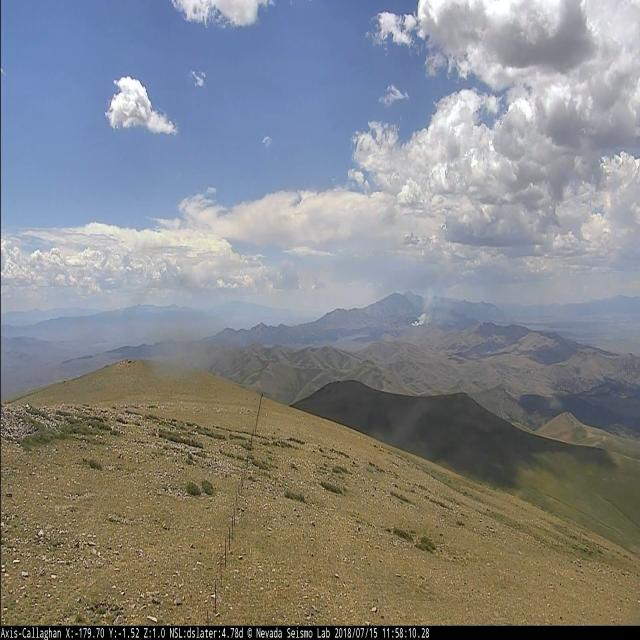smoke: (412, 286, 436, 328)
